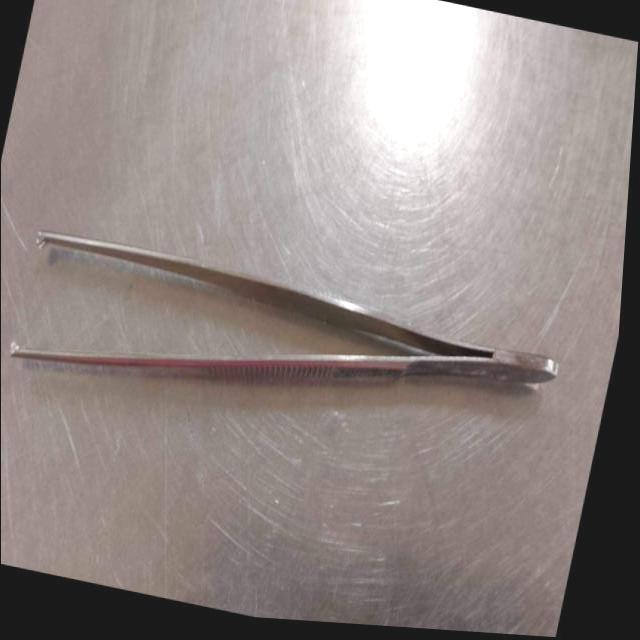General: (1, 0, 638, 637)
Sharps: (32, 228, 559, 378), (9, 342, 559, 384)
